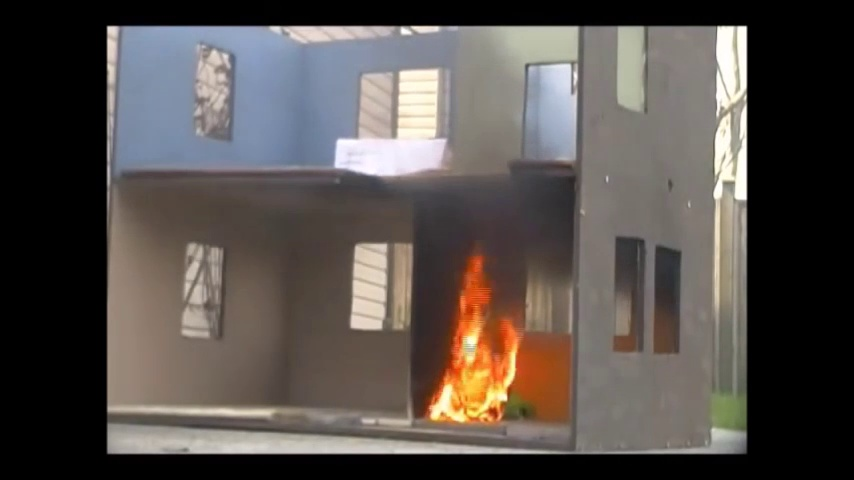fire: (430, 257, 521, 420)
